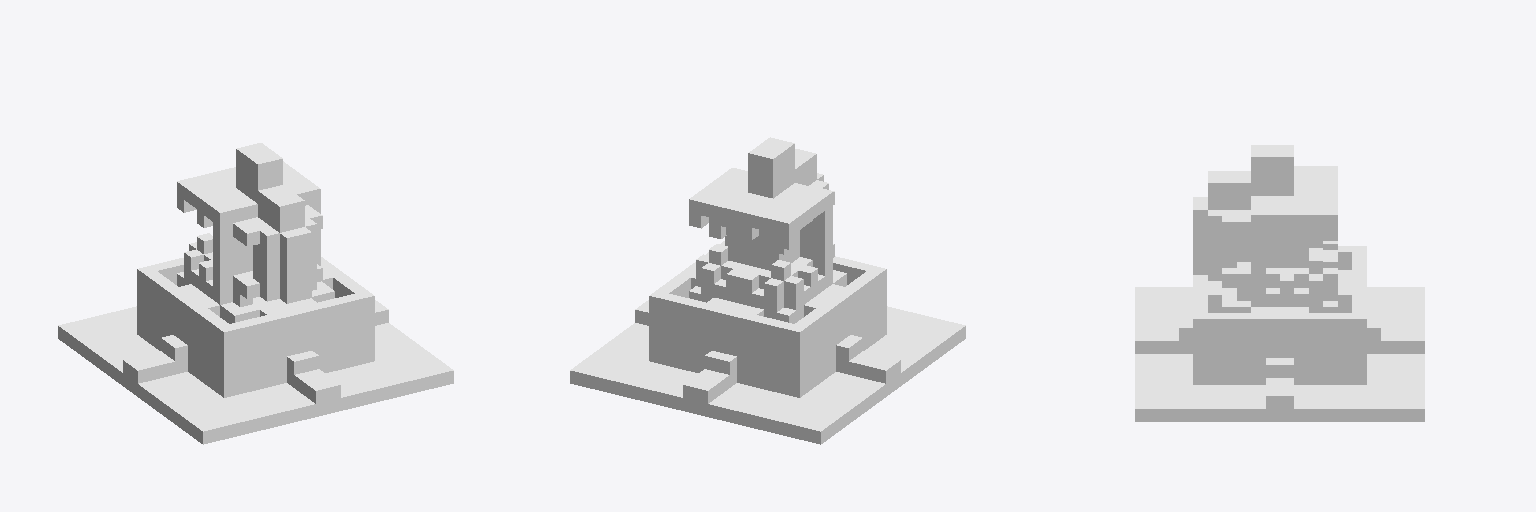
Rendered from Fire_Alien_Base.obj.
3 renders of one model, left to right at view 1: azimuth 30°, elevation 25°; view 2: azimuth 150°, elevation 25°; view 3: azimuth 270°, elevation 25°, orthographic.
Parts seen in each view (by area): view 1: Fire_Alien_Base; view 2: Fire_Alien_Base; view 3: Fire_Alien_Base.
Part boxes in pixels (x1,y1,x2,y2): Fire_Alien_Base: (58,143,453,444); Fire_Alien_Base: (570,137,965,444); Fire_Alien_Base: (1135,145,1424,421).
Bounding box in the file's own units: 20 × 16 × 20.